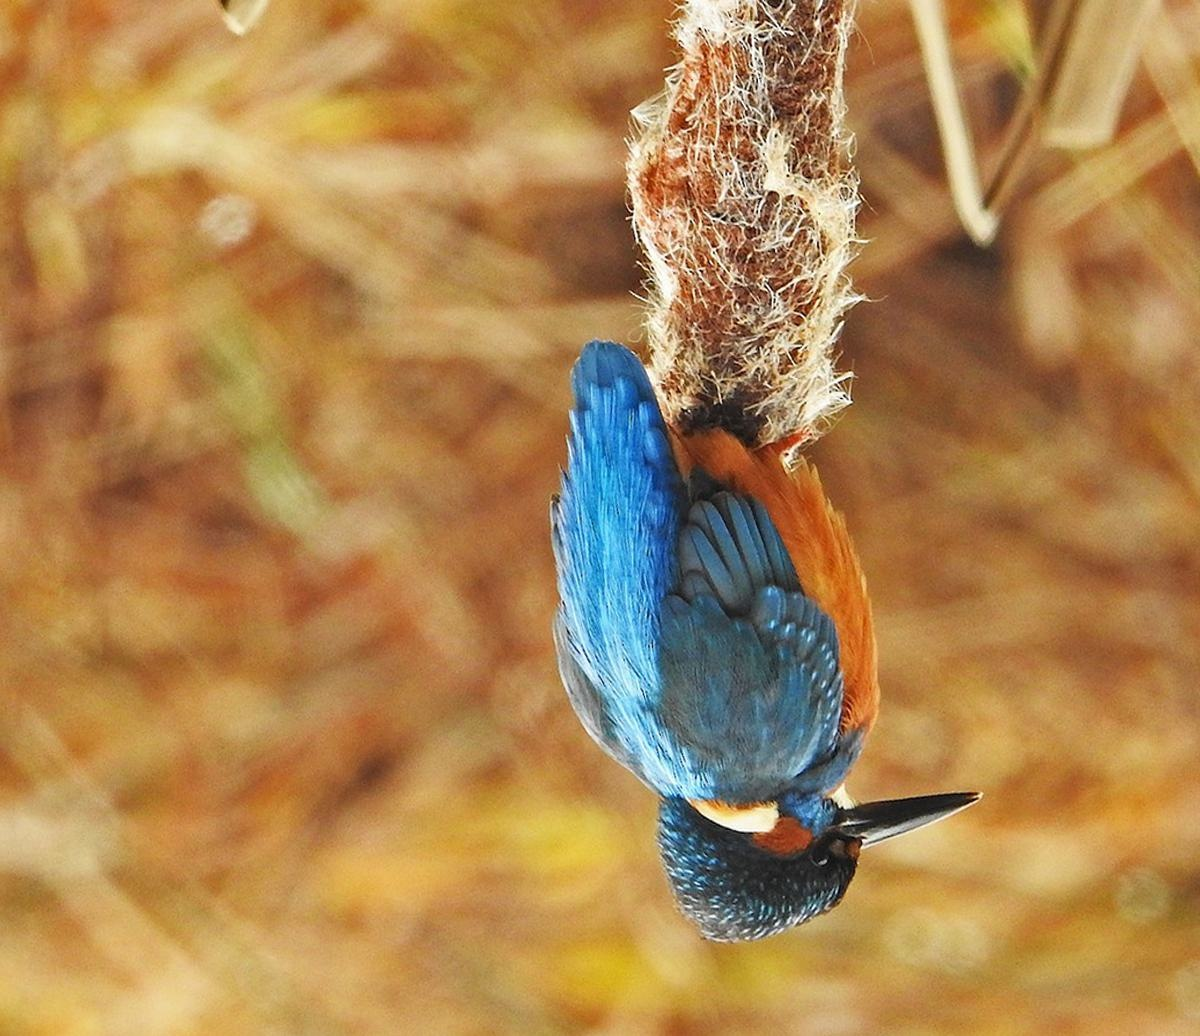kingfisher: (539, 340, 1002, 954)
